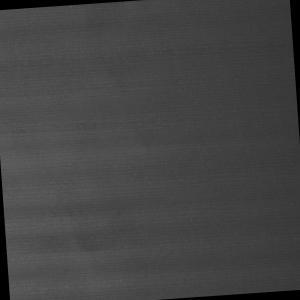Wrinkle: (1, 1, 161, 300)
